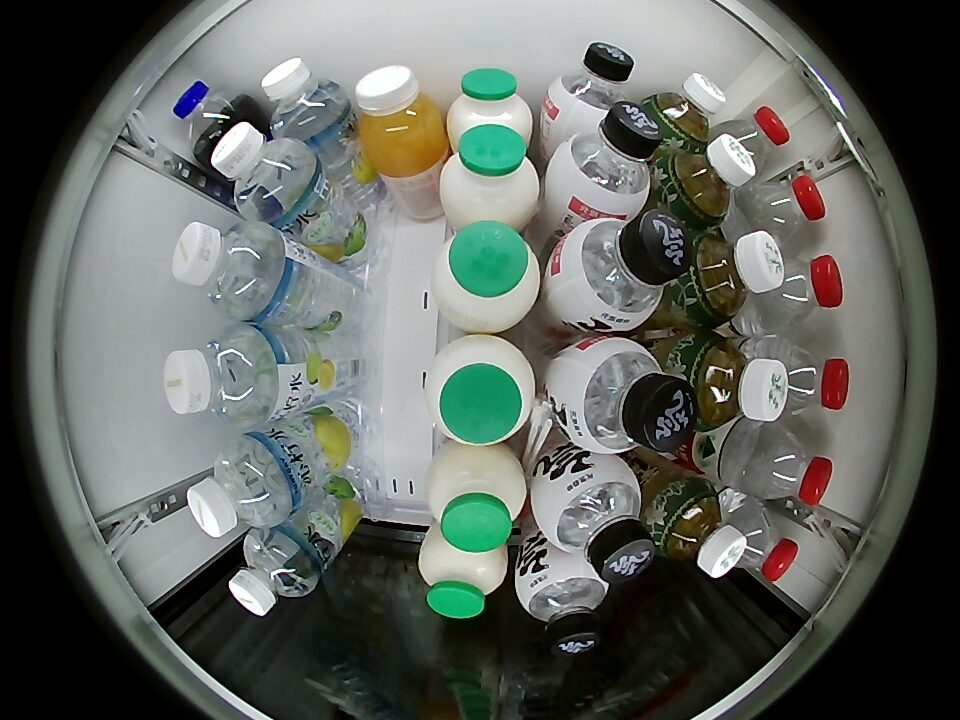baishikele-2: (172, 80, 250, 160)
liziyuan: (427, 335, 537, 445), (432, 222, 541, 332), (426, 443, 528, 553), (440, 122, 541, 230), (420, 530, 509, 619), (447, 67, 532, 147)
moliqingcha: (673, 332, 789, 434), (677, 228, 786, 327), (648, 480, 747, 579), (660, 135, 756, 228), (643, 72, 726, 152)
nongfushanquan: (740, 427, 833, 508), (758, 253, 843, 332), (769, 339, 850, 416), (745, 173, 827, 242), (728, 502, 798, 582), (720, 105, 790, 176)
qinningshui: (164, 326, 279, 429), (172, 220, 288, 322), (186, 434, 297, 539), (210, 121, 320, 222), (228, 526, 322, 617), (260, 57, 349, 141)
weic: (353, 65, 447, 175)
yuanqishui: (551, 335, 696, 455), (551, 211, 691, 332), (532, 456, 656, 582), (545, 103, 664, 222), (514, 552, 608, 655), (544, 42, 635, 131)
